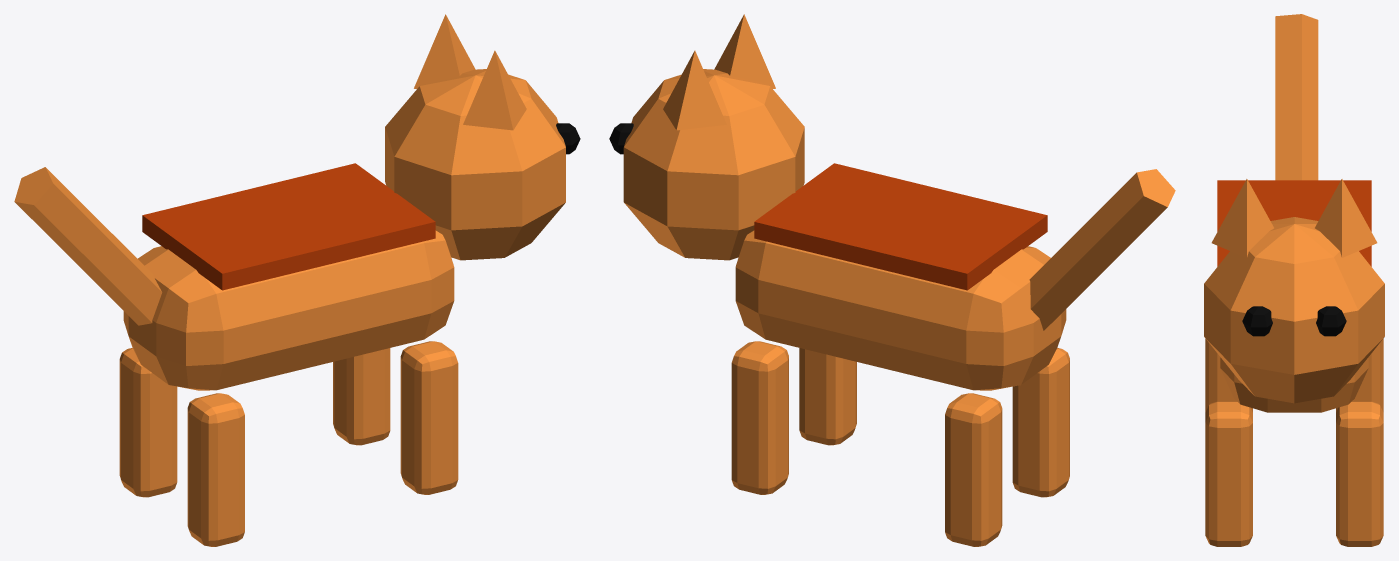
File: an-cat-CSxb3j6k.glb
3 renders of one model, left to right at view 1: azimuth 30°, elevation 25°; view 2: azimuth 150°, elevation 25°; view 3: azimuth 270°, elevation 25°, orthographic. The views are drawn at different scales.
Parts seen in each view (by area): view 1: an-cat; view 2: an-cat; view 3: an-cat.
Part boxes in pixels (x1=…): an-cat: x1=14, y1=14, x2=580, y2=546; an-cat: x1=609, y1=14, x2=1175, y2=546; an-cat: x1=1204, y1=14, x2=1384, y2=546.
Size of the model in its own units: 0.1012 by 0.074 by 0.0304.
